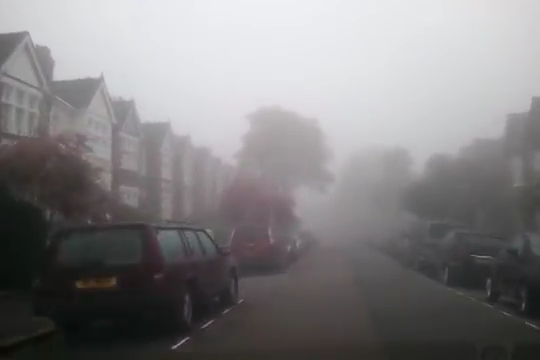car: (30, 223, 242, 338), (430, 225, 512, 293), (485, 224, 540, 308), (403, 221, 469, 272), (224, 224, 288, 271), (257, 229, 300, 266)
